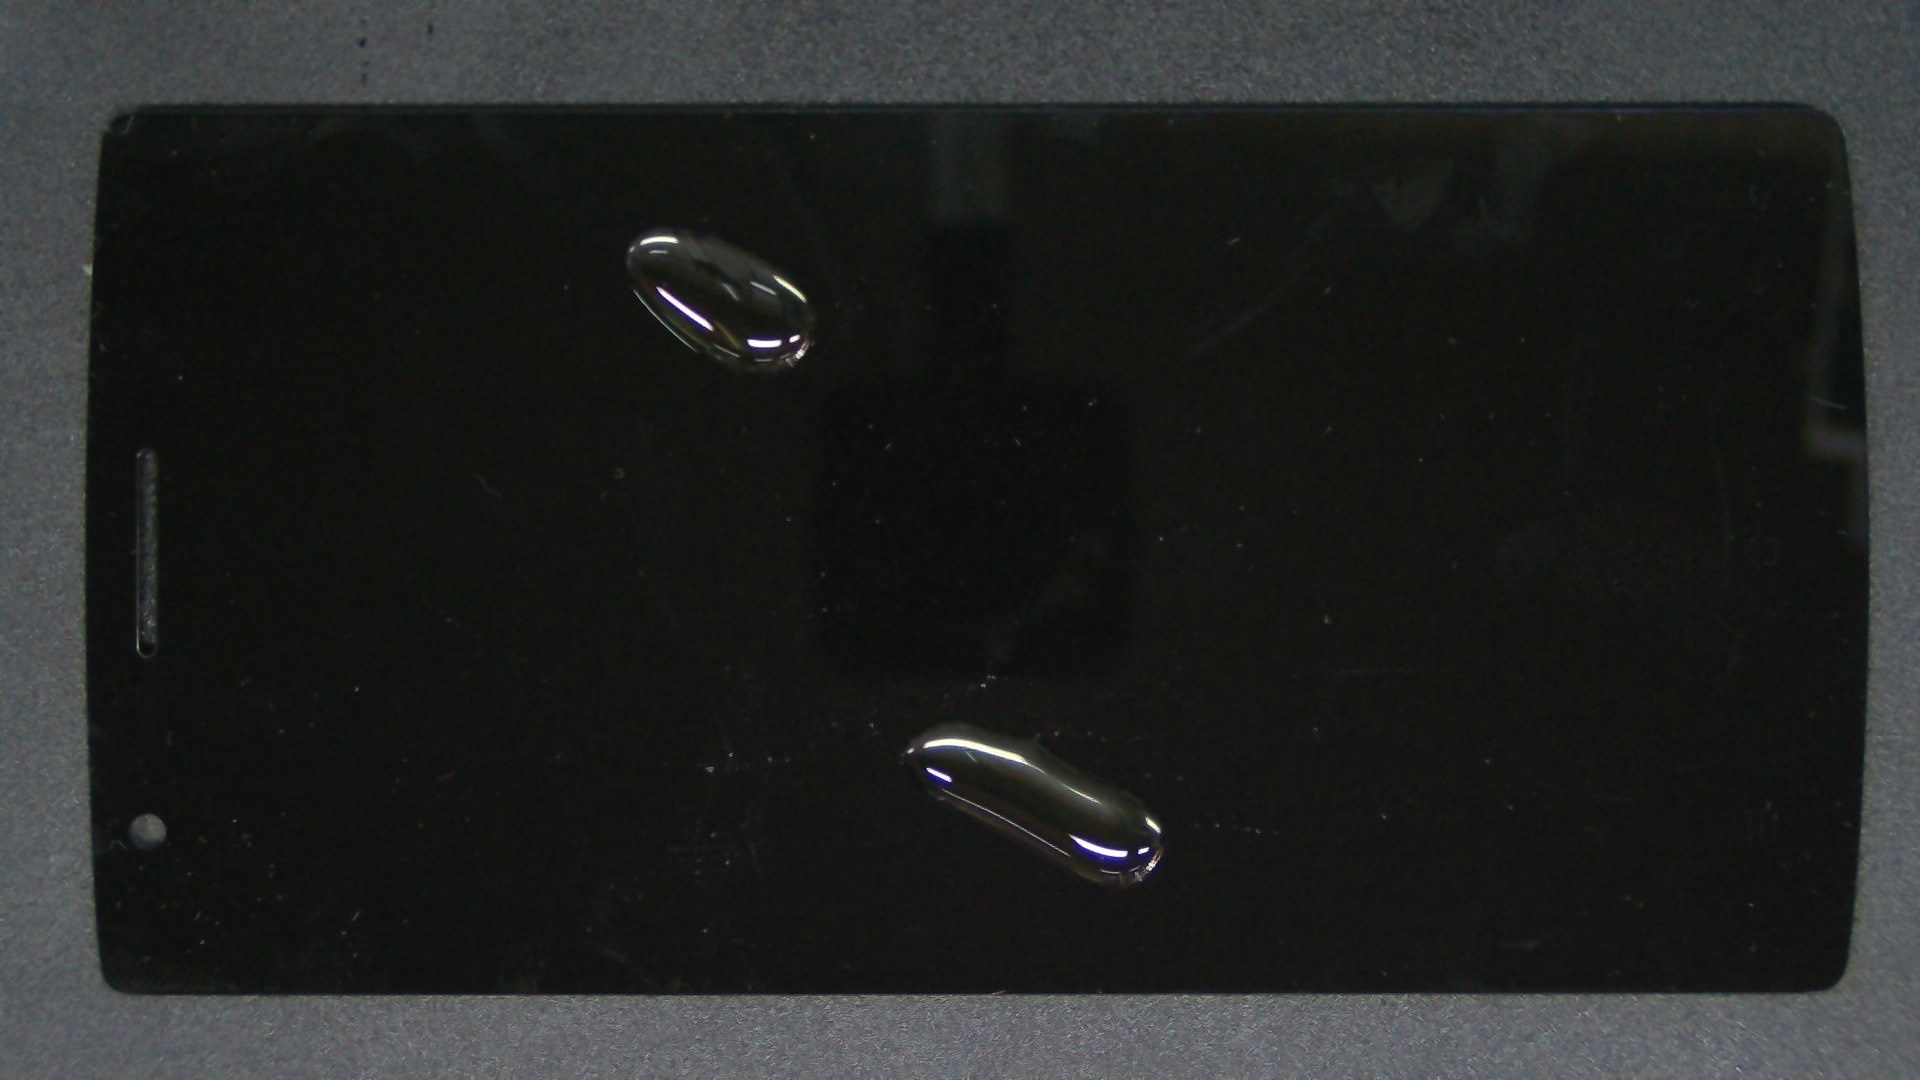oil: (472, 361, 1412, 1080), (328, 112, 982, 339)
